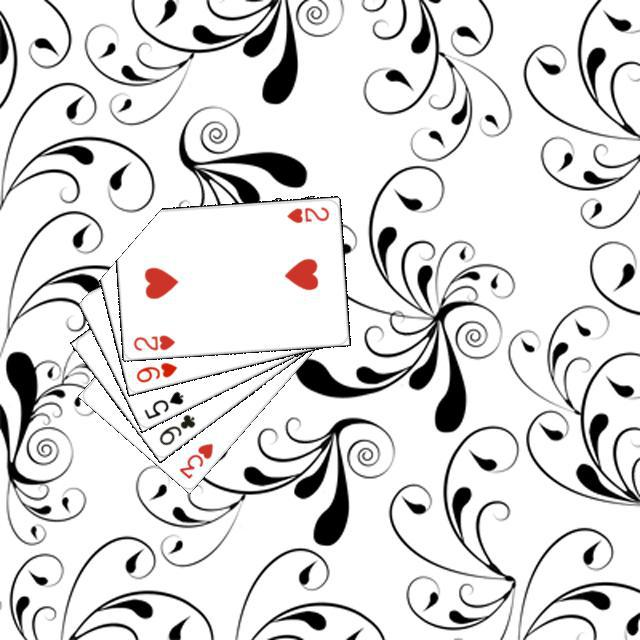2h: (128, 330, 176, 353), (282, 202, 331, 224)
3h: (174, 438, 215, 481)
5s: (139, 386, 185, 421)
9c: (154, 409, 197, 447)
9h: (131, 357, 179, 384)
